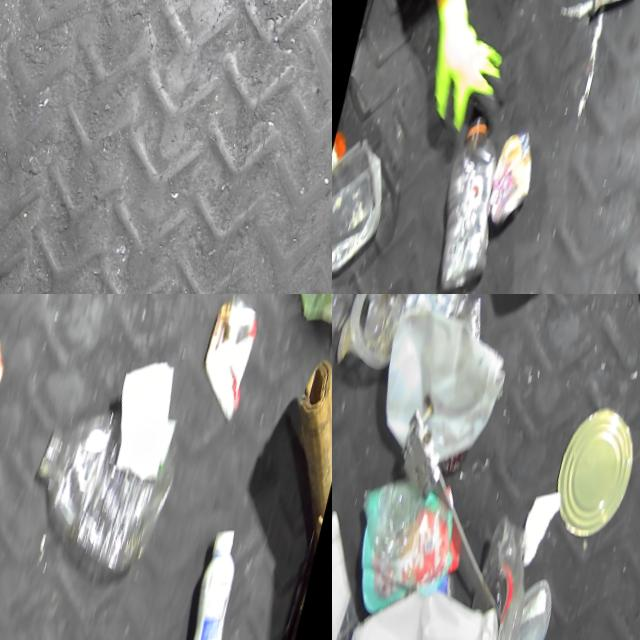can: (545, 405, 640, 552), (190, 298, 266, 434), (480, 127, 543, 238)
milk_jug: (365, 305, 516, 482), (336, 574, 506, 640)
plastic_bottle: (13, 396, 186, 592), (423, 113, 516, 294)
